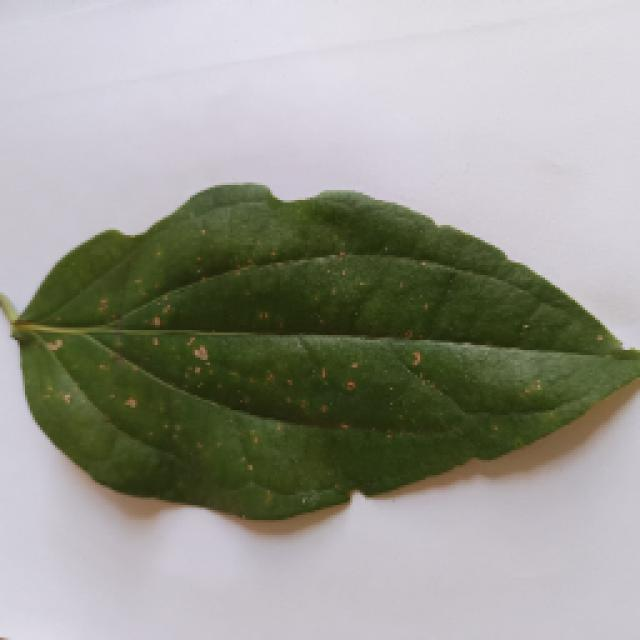pollu-disease: (2, 190, 630, 512)
